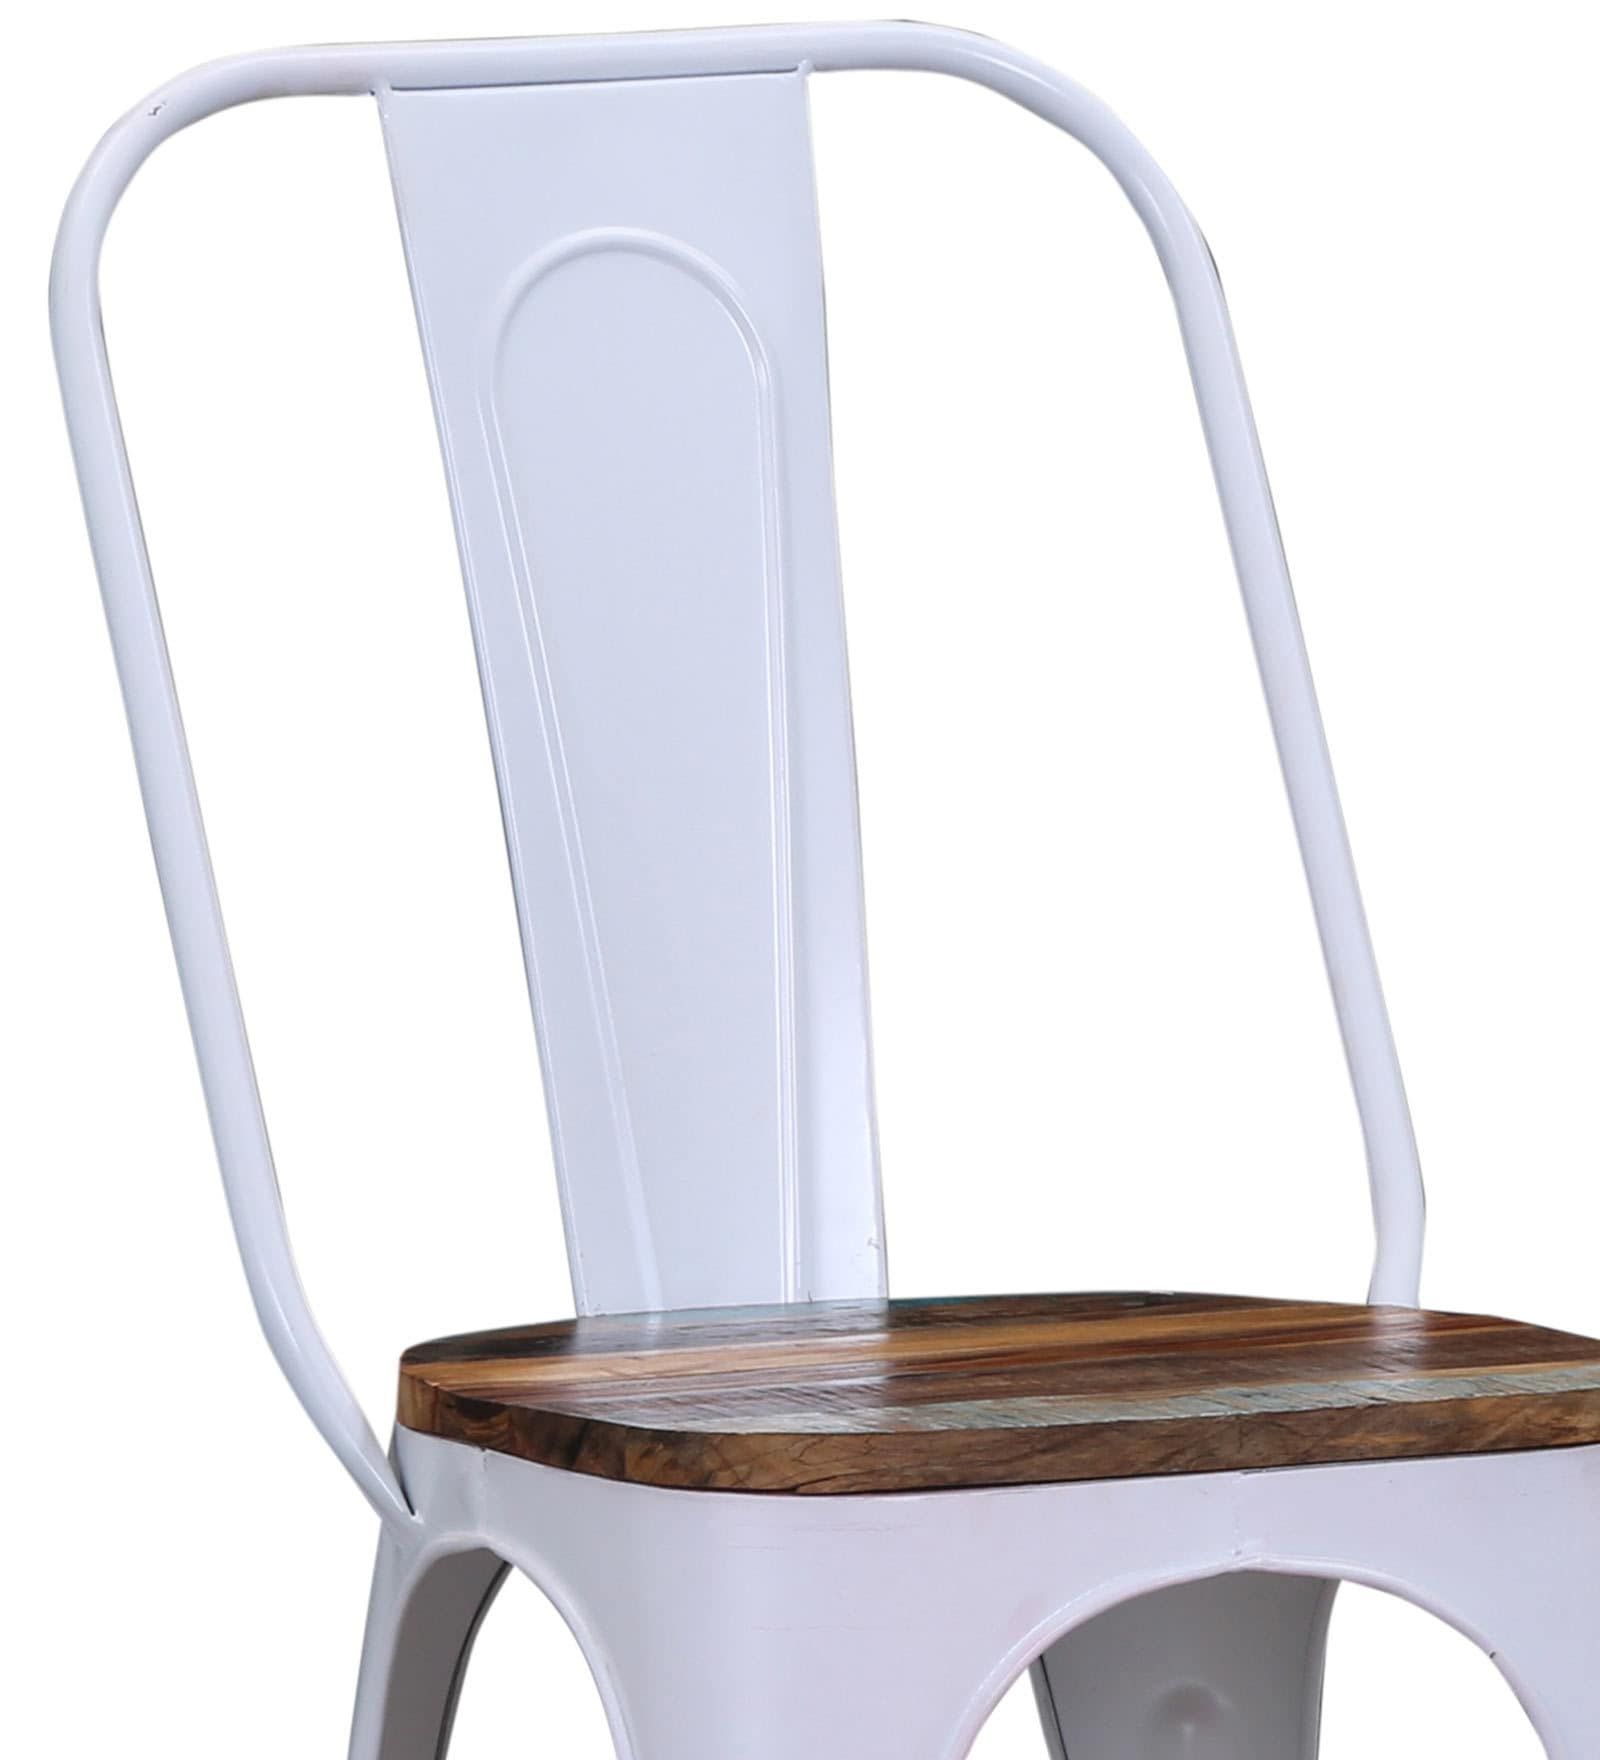Ekati Metal Chair in White Color with Wooden Seat by Bohemiana: (51, 8, 1600, 1739)
